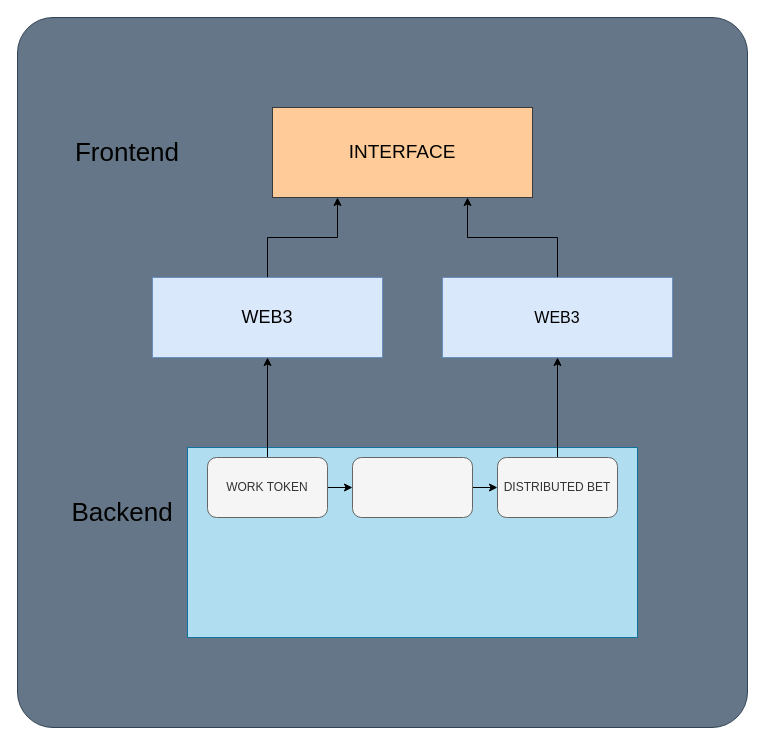
The diagram is 765 pixels wide and 745 high, and some of its shapes have lost their labels. Here are the shapes that lost their labels. From the top down, the box of each, then its label:
(352, 456, 472, 518): BET CONTRACT
(186, 446, 638, 638): BLOCKCHAIN
